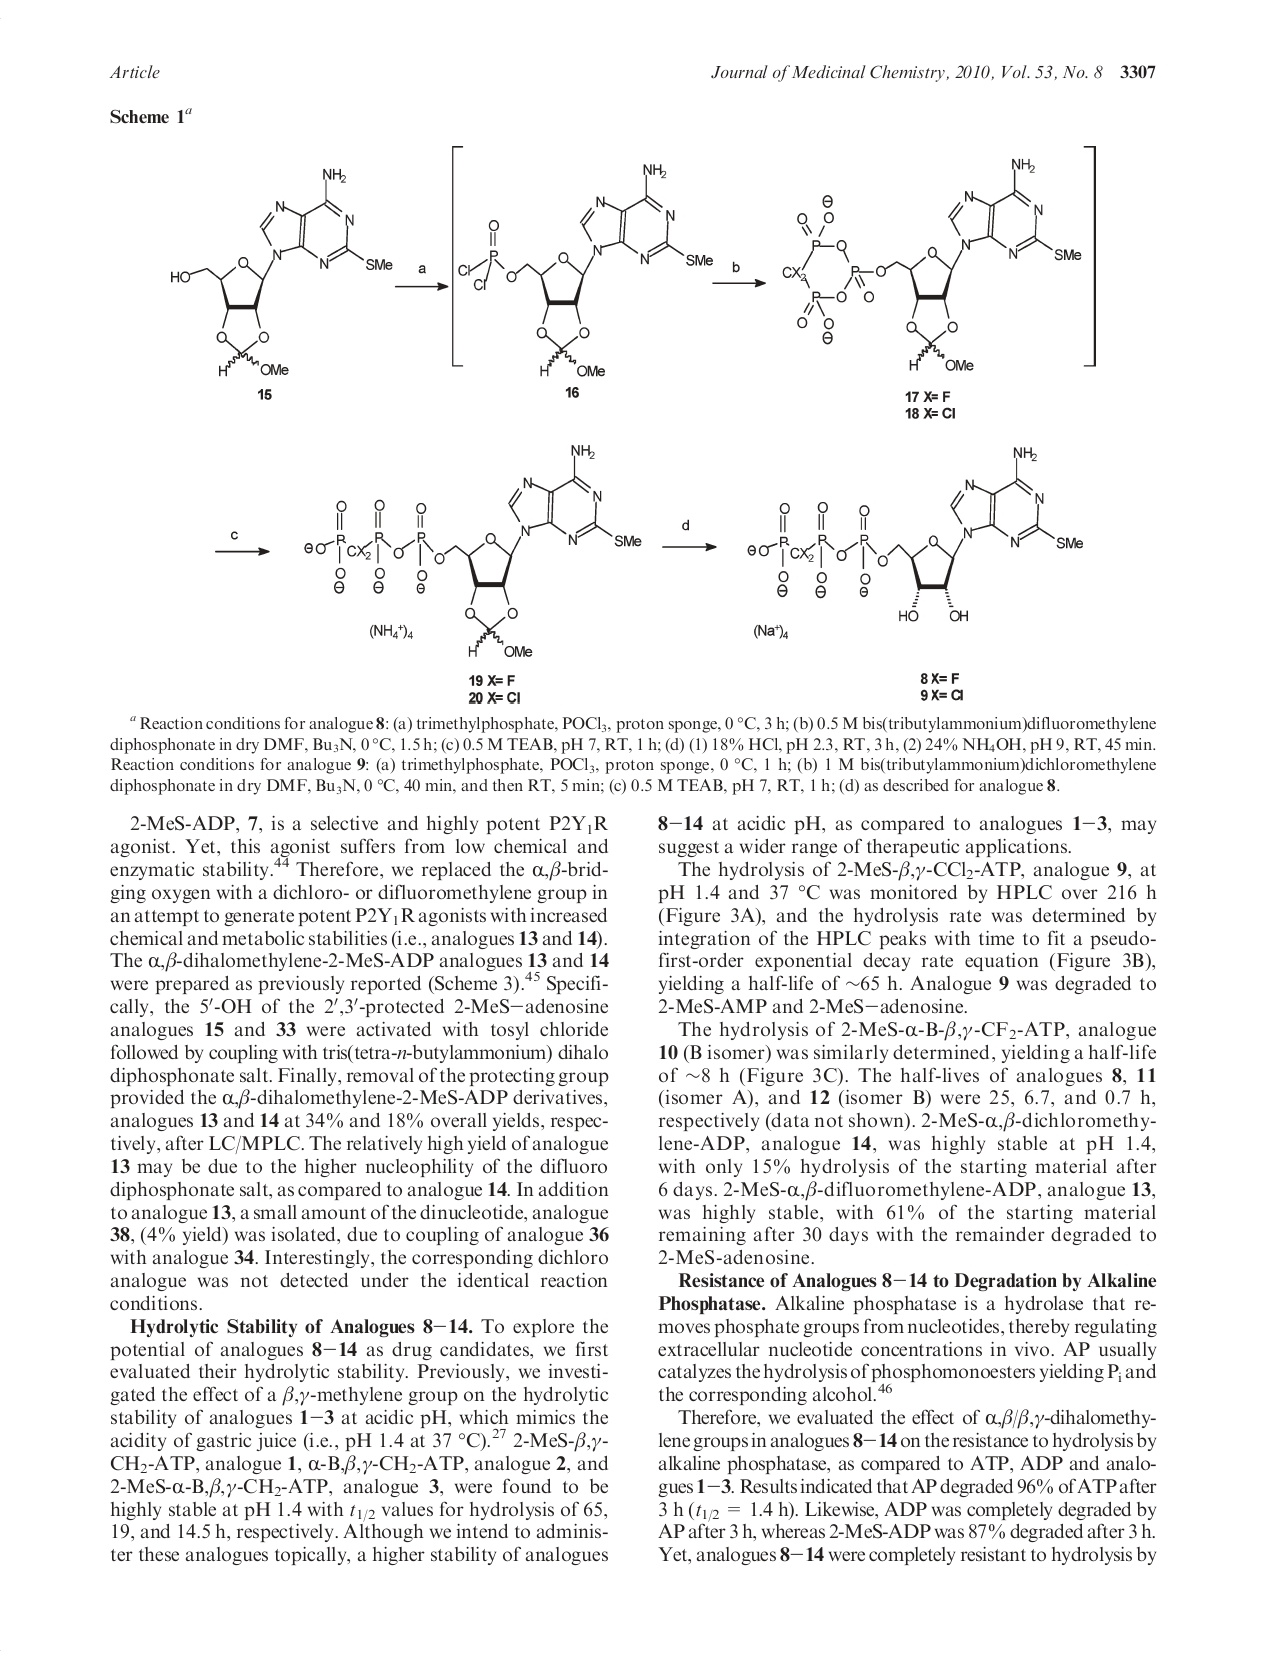exist_molecular: (302, 438, 652, 658), (782, 153, 1085, 374), (746, 439, 1089, 626), (457, 158, 715, 379), (168, 168, 402, 380)
